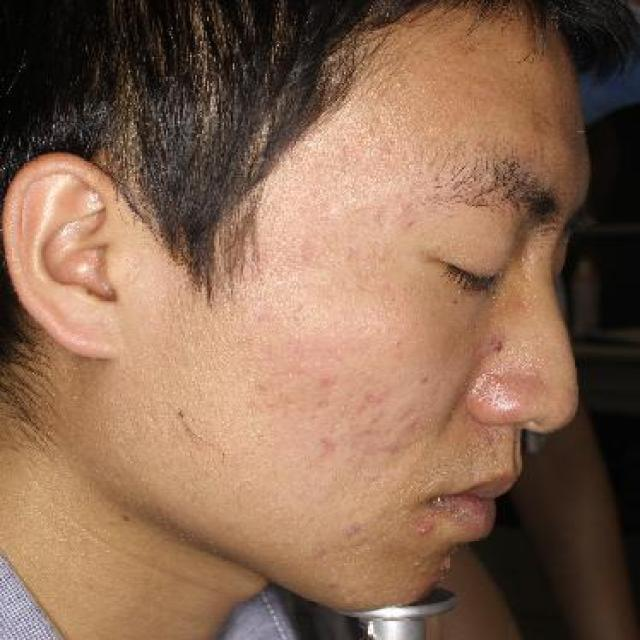Blackheads: (486, 335, 508, 360)
Whiteheads: (411, 516, 438, 542)
